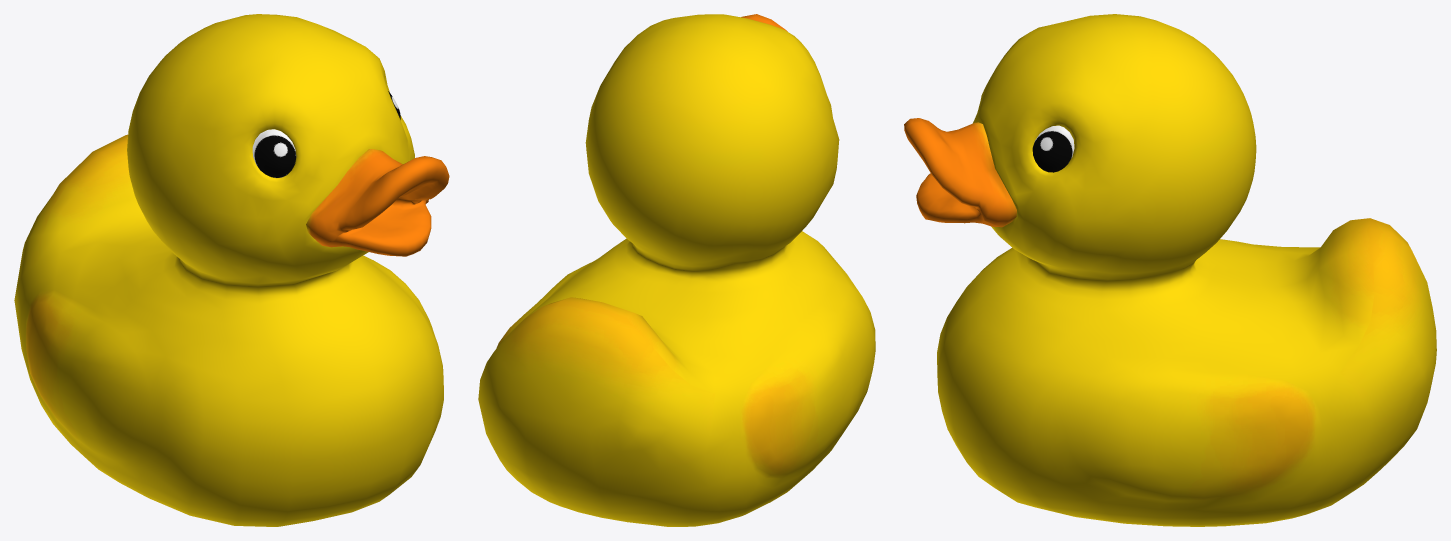
The model's file is duck.glb.
The picture shows the model from 3 angles, left to right: view 1: azimuth 30°, elevation 25°; view 2: azimuth 150°, elevation 25°; view 3: azimuth 270°, elevation 25°; orthographic projection. The views are drawn at different scales.
Visible parts, largest first — view 1: duck; view 2: duck; view 3: duck.
Boxes of the visible parts, bbox=[...] form: duck: bbox=[14, 14, 449, 526]; duck: bbox=[478, 14, 875, 526]; duck: bbox=[904, 14, 1436, 526].
Size of the model in its own units: 0.1877 by 0.2509 by 0.2695.
Materials: 1 (1 with a texture image).
